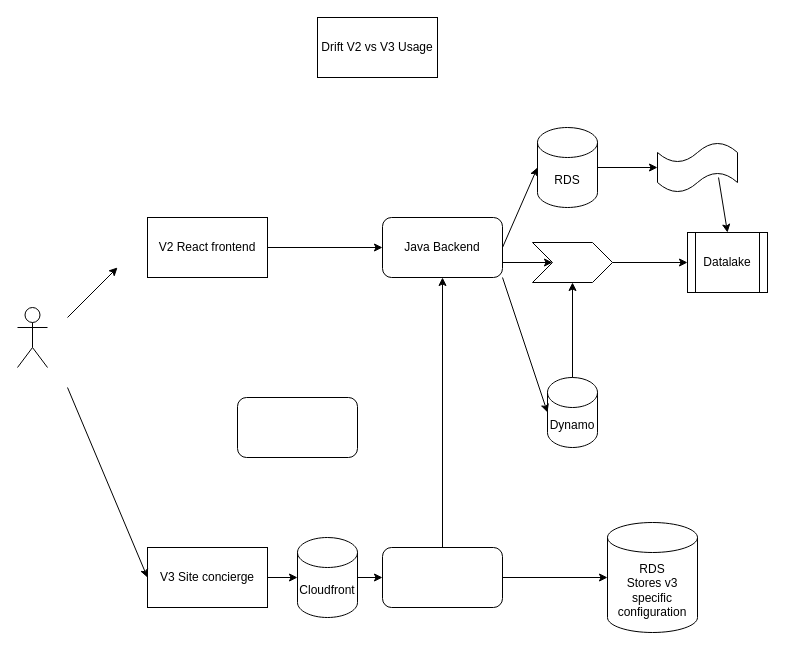
Image size: 785x650. Some labels were removed from this diagram. Here are the shapes that lost their labels. From the top down, the centre of each, then its label:
At (x=697, y=167): "Lambda".
At (x=572, y=262): "Queue".
At (x=32, y=337): "Actor".
At (x=297, y=427): "bootstrap targeting have v2 and v3 endpoints".
At (x=442, y=577): "node js server".
